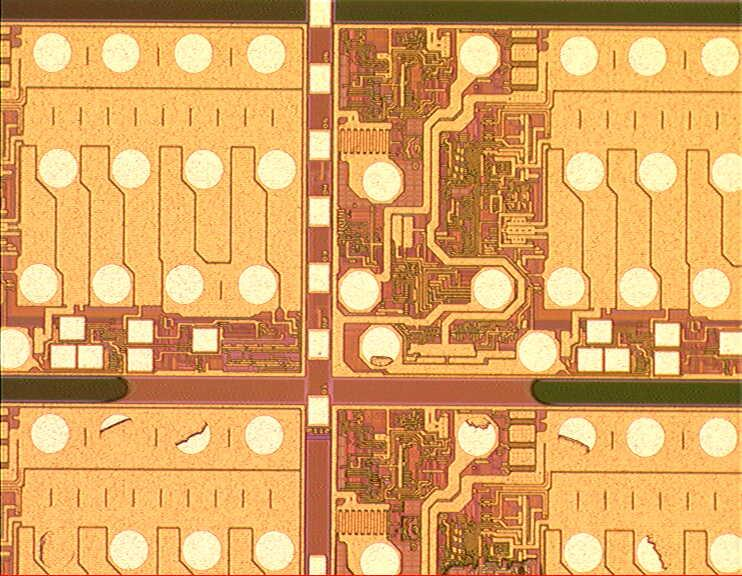COATING BAD: (89, 351, 679, 571)
